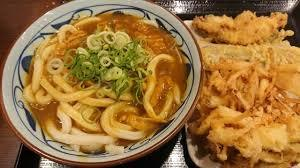curry: (4, 1, 196, 157)
kakiage: (201, 67, 300, 165)
